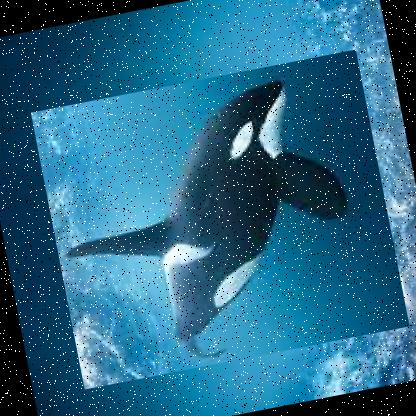killer_whale: (28, 49, 408, 390)
